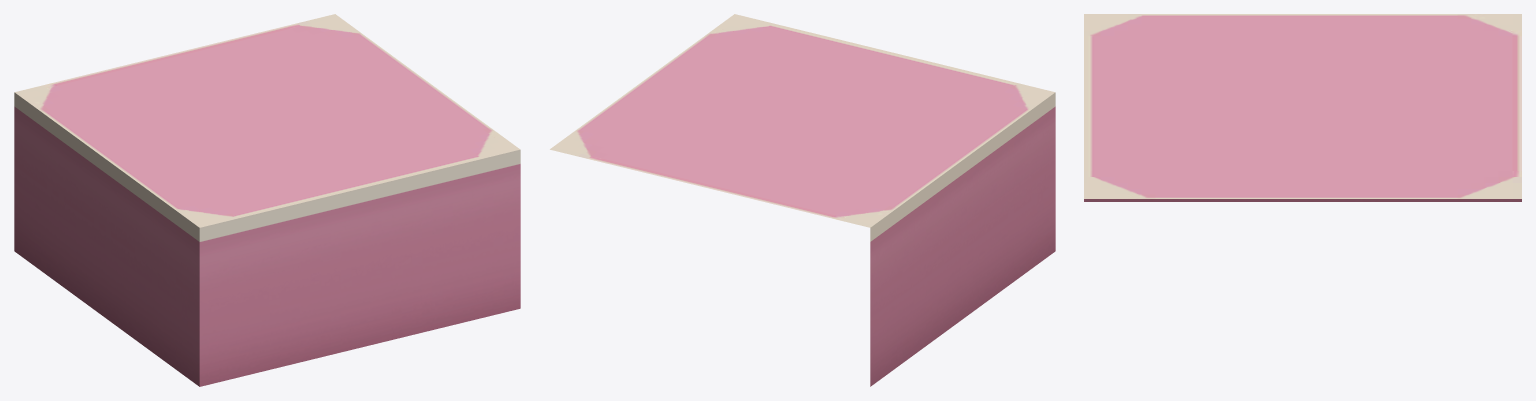
File: my_chocolatecafe_01_p_tile_01.glb
3 renders of one model, left to right at view 1: azimuth 30°, elevation 25°; view 2: azimuth 150°, elevation 25°; view 3: azimuth 270°, elevation 25°, orthographic. The views are drawn at different scales.
Visible parts, largest first — view 1: my_chocolatecafe_01_p_tile_01; view 2: my_chocolatecafe_01_p_tile_01; view 3: my_chocolatecafe_01_p_tile_01.
Boxes of the visible parts, bbox=[...] form: my_chocolatecafe_01_p_tile_01: bbox=[14, 14, 520, 386]; my_chocolatecafe_01_p_tile_01: bbox=[550, 14, 1055, 386]; my_chocolatecafe_01_p_tile_01: bbox=[1084, 14, 1521, 201].
Size of the model in its own units: 0.006 by 0.00284 by 0.006.
1 material, 1 textured.
